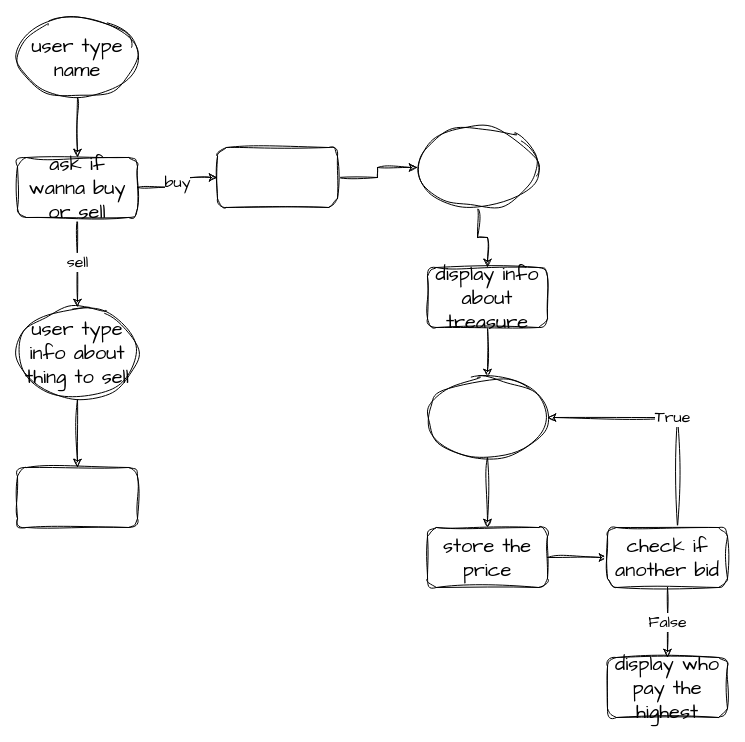
This 745x742 diagram has some shape labels left out. The centre of each missing label's shape, as x and y in pixels:
"display list of treasure" belongs at (x=277, y=177).
"store info in a dict" belongs at (x=77, y=497).
"user choose thing to bid" belongs at (x=477, y=167).
"user type the price" belongs at (x=487, y=417).
